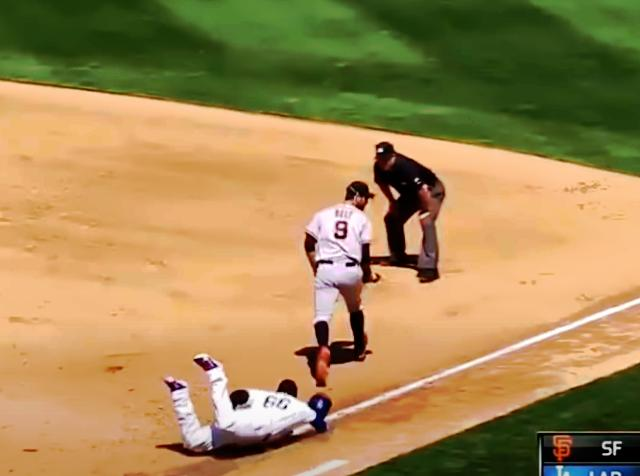jatuh: (158, 343, 336, 465)
